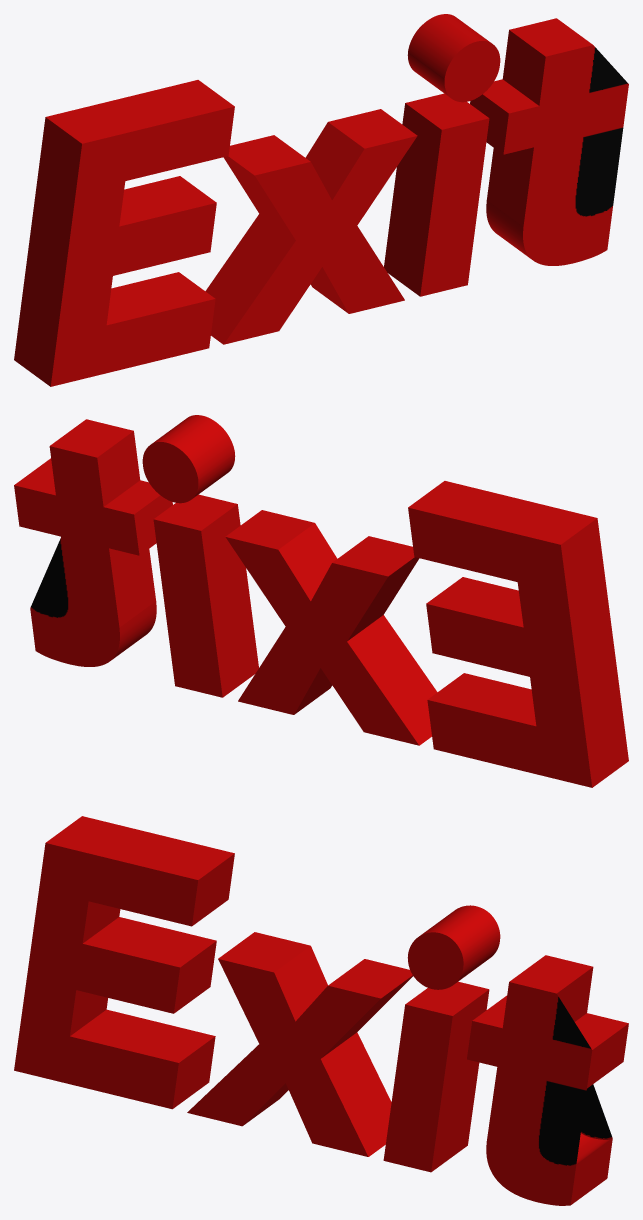
The model's file is Exit.fbx.
The picture shows the model from 3 angles, top to bottom: view 1: azimuth 30°, elevation 25°; view 2: azimuth 150°, elevation 25°; view 3: azimuth 330°, elevation 25°; orthographic projection.
Parts seen in each view (by area): view 1: Cap_1, Extrude_NURBS_1; view 2: Cap_2, Extrude_NURBS_1; view 3: Cap_1, Extrude_NURBS_1, Cap_2.
Part boxes in pixels (<box>): Cap_1: <box>50,41,628,386</box>; Extrude_NURBS_1: <box>14,14,592,386</box>; Cap_2: <box>14,442,592,787</box>; Extrude_NURBS_1: <box>14,415,628,787</box>; Cap_1: <box>14,843,592,1205</box>; Extrude_NURBS_1: <box>46,816,628,1204</box>; Cap_2: <box>581,1084,612,1139</box>.
Size of the model in its own units: 364 by 148 by 40.
Materials: 3 (3 with a texture image).
